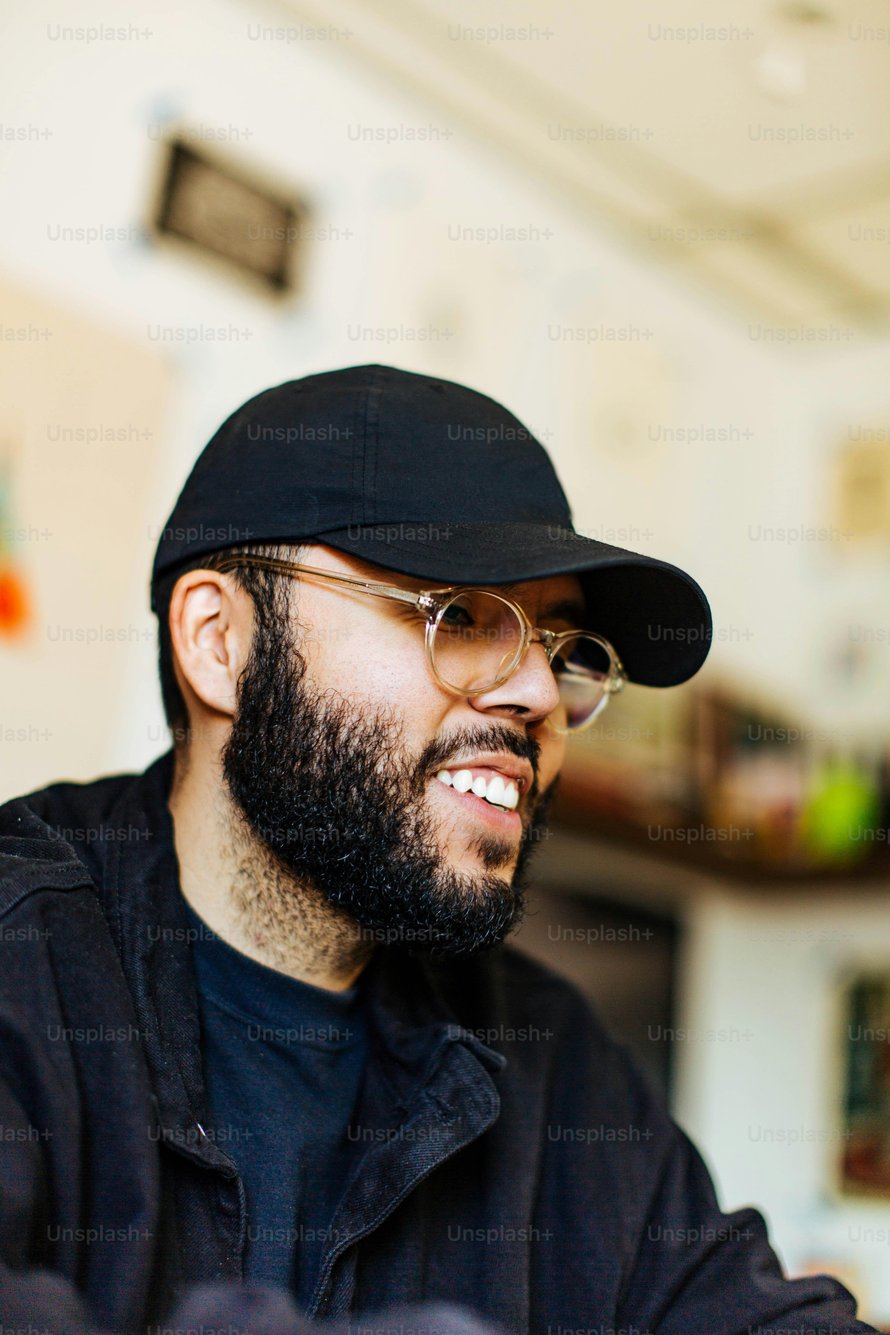cap: (141, 348, 735, 688)
